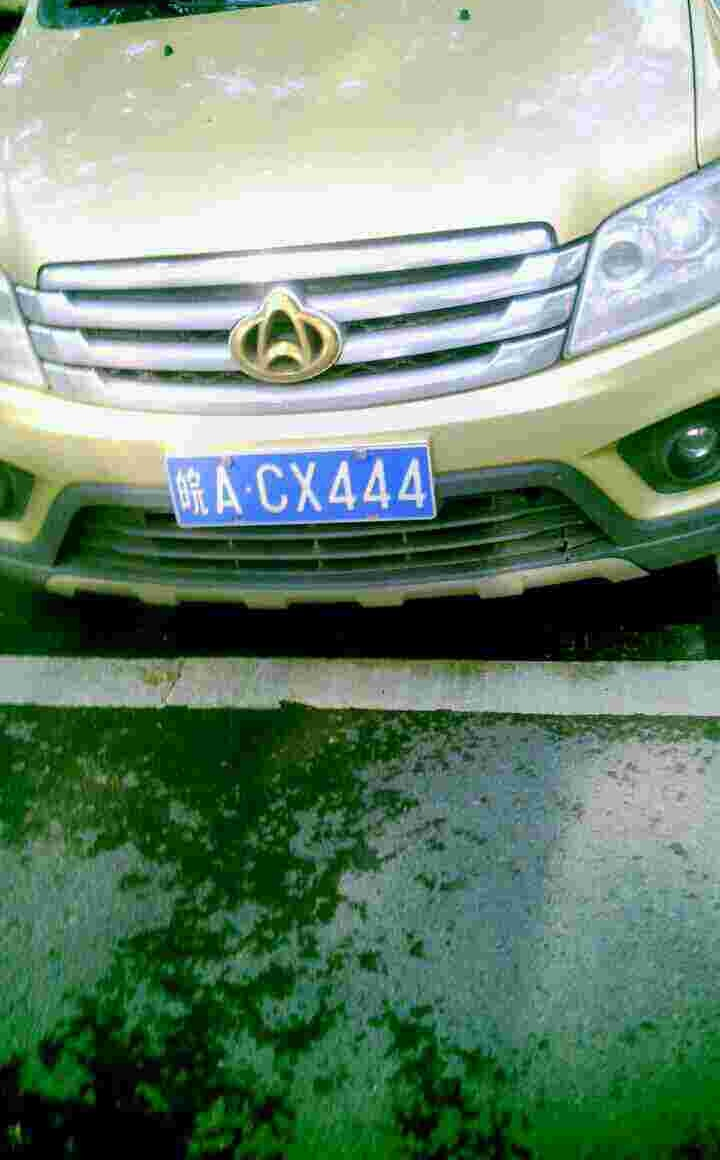plate: (164, 442, 445, 532)
